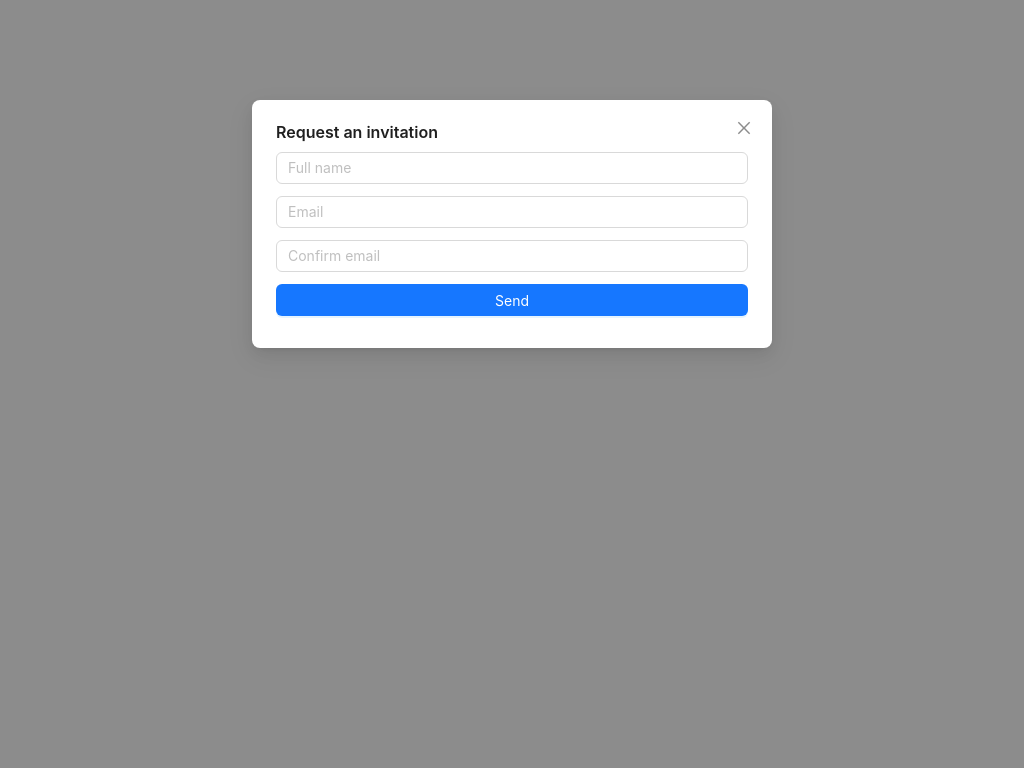
Test: ModalForm › validation › validate email confirm
Type "Gafirazi Irfandi" into the field with placeholder "Full name" at (512, 168), box [276,152,748,184]
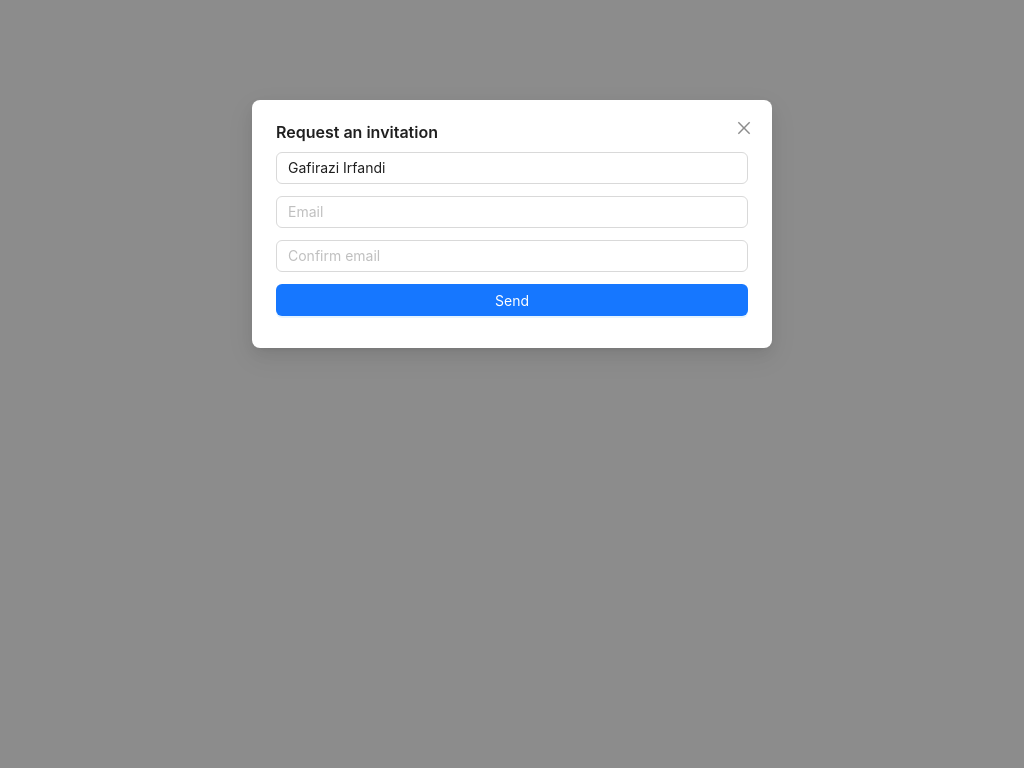
Type "gafiraziirfandi@gmail.com" into the field with placeholder "Email" at (512, 212), box [276,196,748,228]
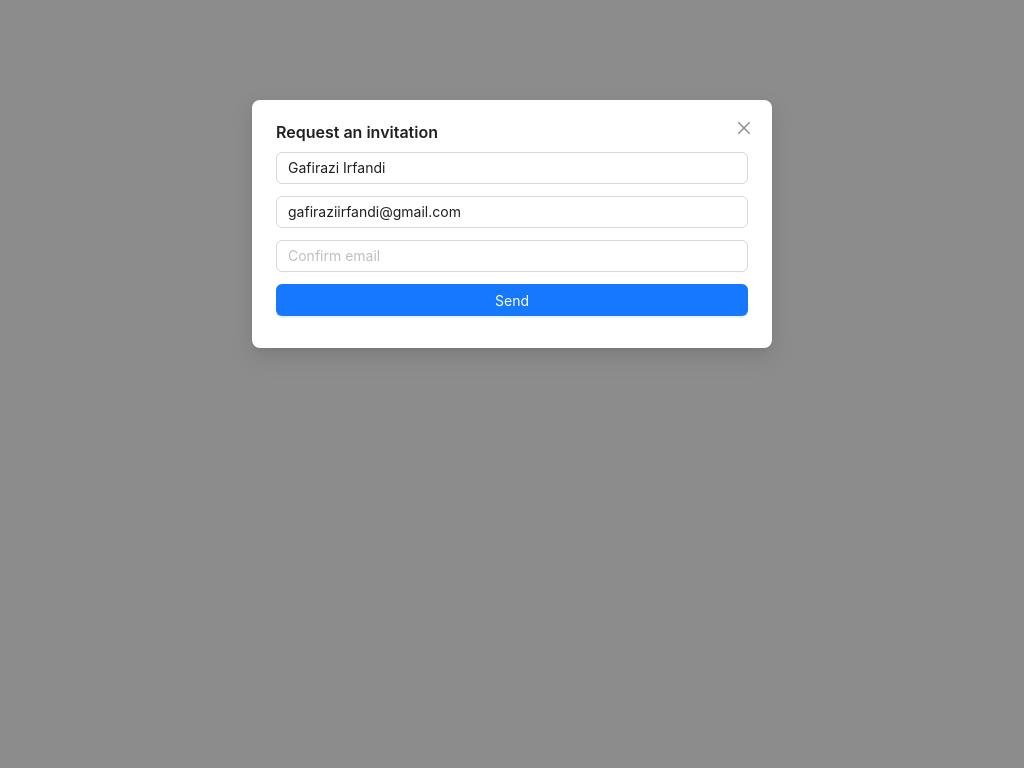
Type "irfandigafirazi@gmail.com" into the field with placeholder "Confirm email" at (512, 256), box [276,240,748,272]
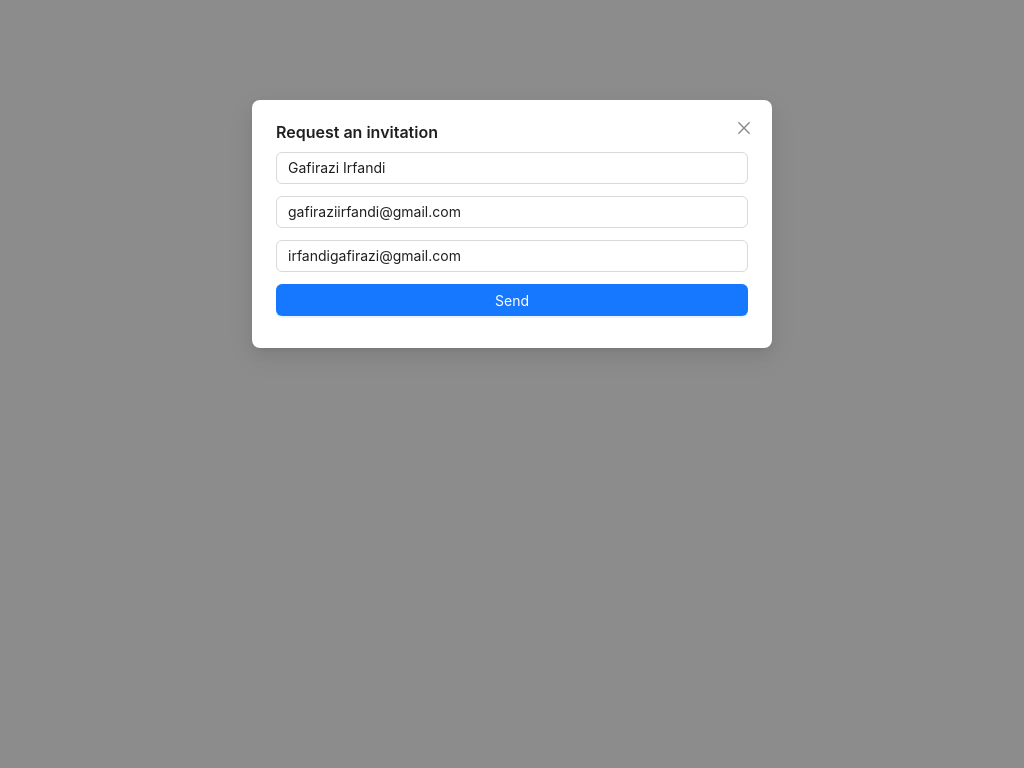
Click the button "Send" at (512, 300), box [276,284,748,316]
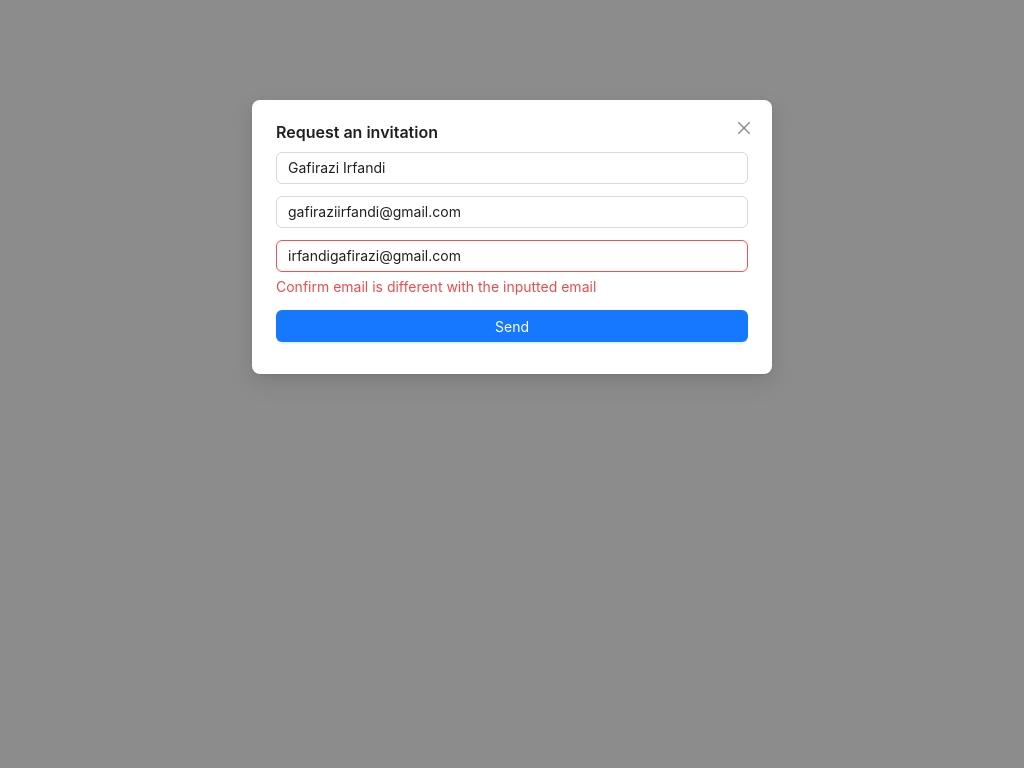
Expected: the text "Confirm email is different with the inputted email" is shown, [276,278,596,295]
